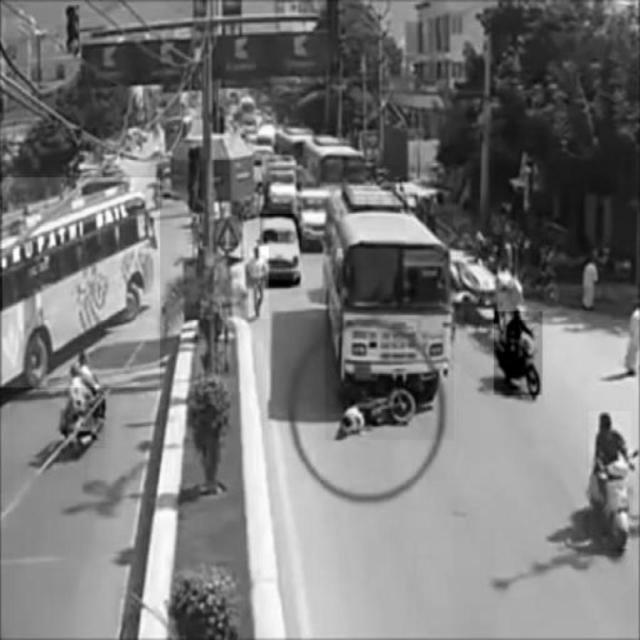accident: (325, 187, 453, 440)
person: (250, 247, 270, 319)
vehicle: (3, 178, 160, 388), (590, 412, 632, 549), (494, 312, 542, 395), (66, 351, 106, 449), (261, 214, 302, 287)
